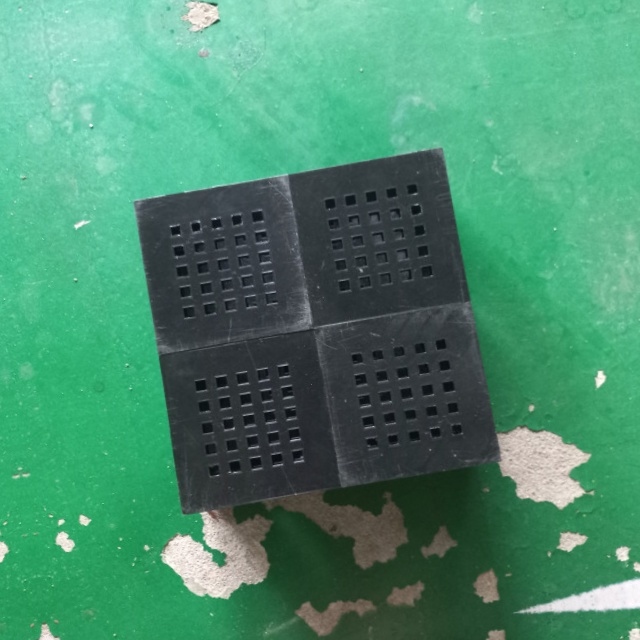pallet: (126, 141, 507, 523)
